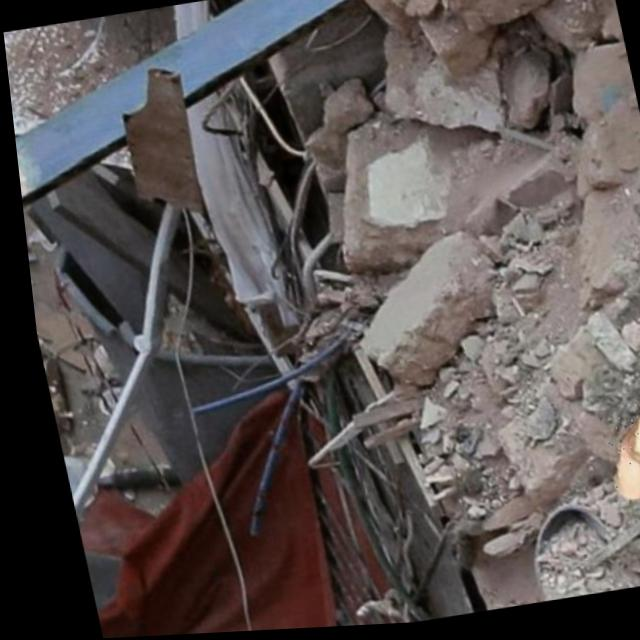Person in Rubble: (586, 401, 640, 507)
